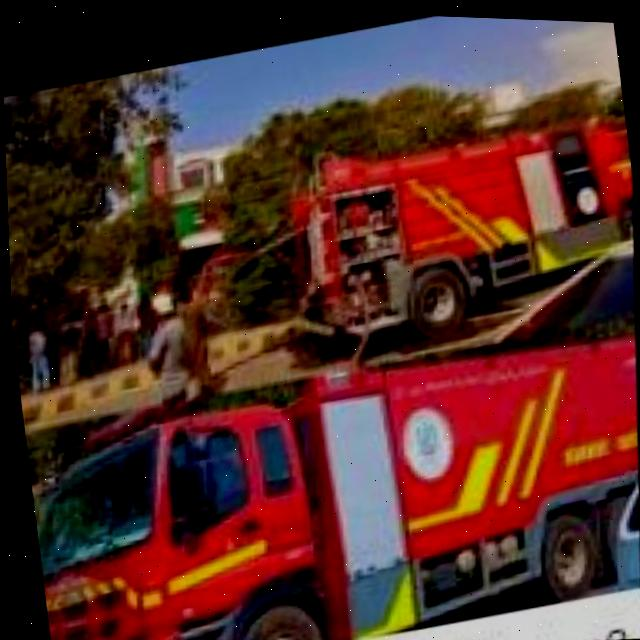emergency: (11, 309, 640, 640), (271, 94, 640, 355)
